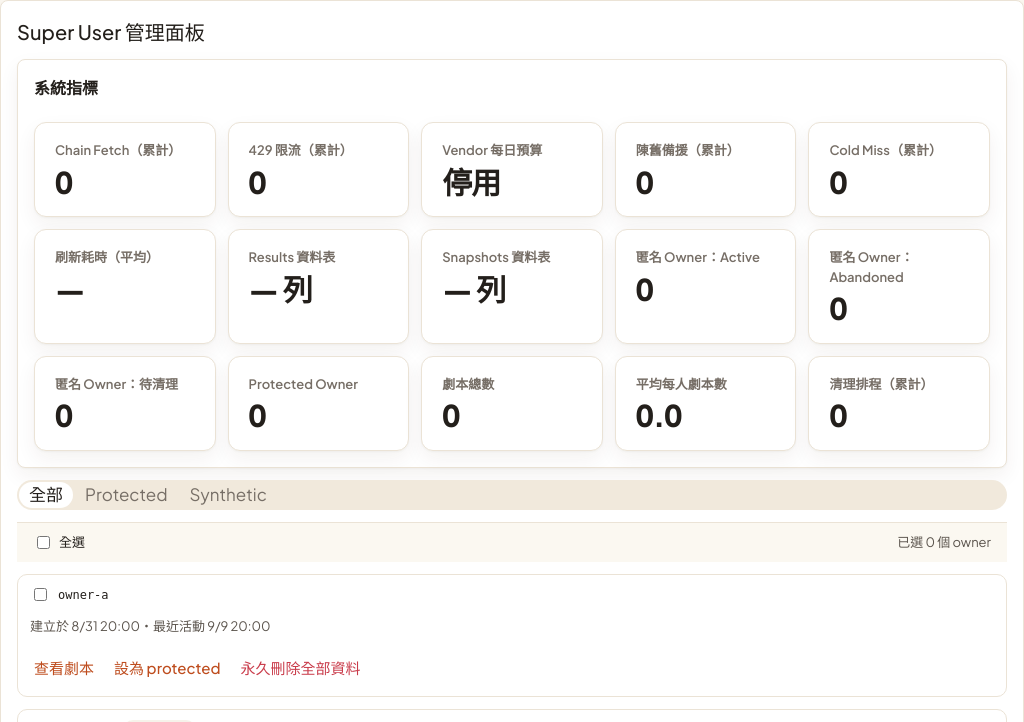
Scenario: OG-11（#322）：owners 表狀態篩選（純前端，不打新請求） › 點 Synthetic chip 只留下 synthetic 的 owner
The width and height of the screenshot is (1024, 722).
Expected: the text "owner-a" is shown, [58,586,109,604]
Click the button "Synthetic" at (228, 494), box [180,482,277,508]
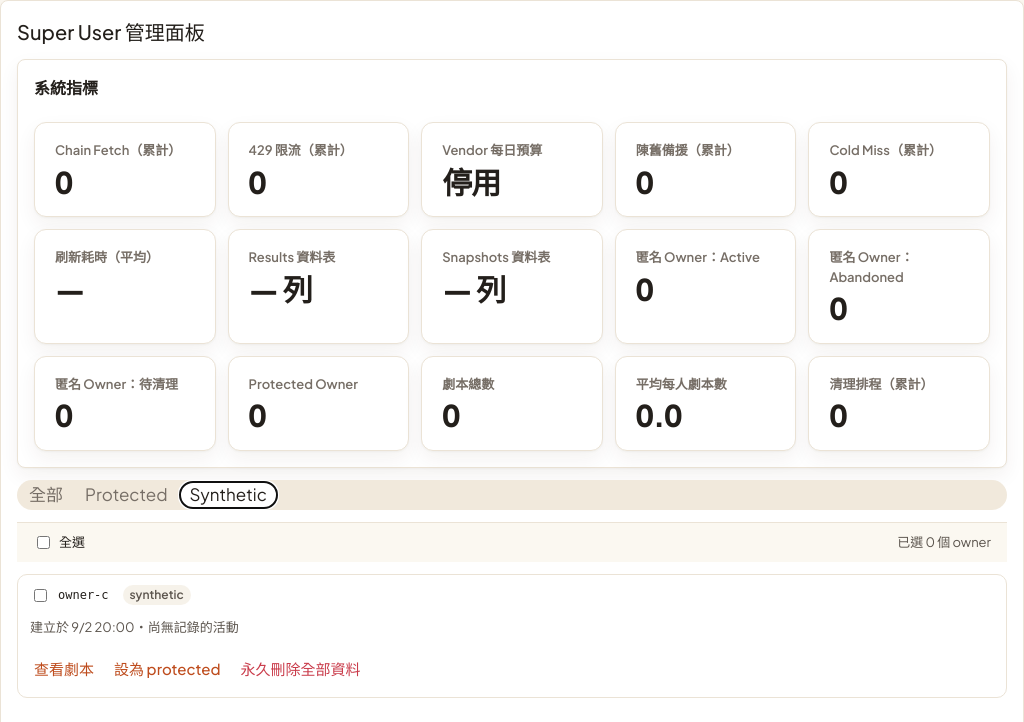
Expected: the text "owner-c" is shown, [58,586,109,604]
Now the text "owner-a" is gone
